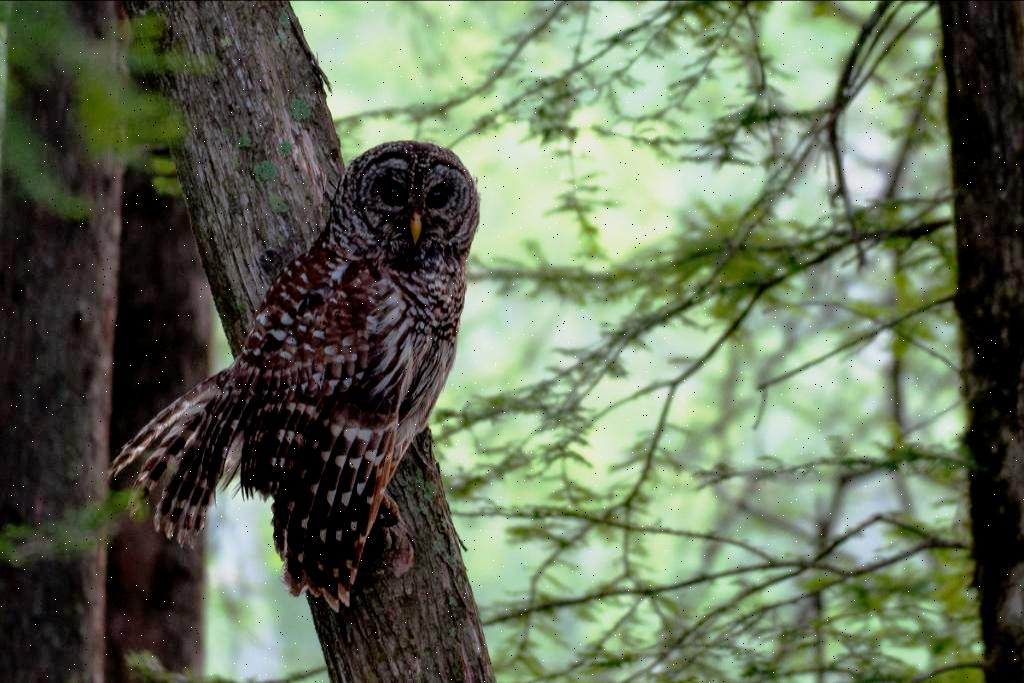Owl: (102, 140, 482, 614)
